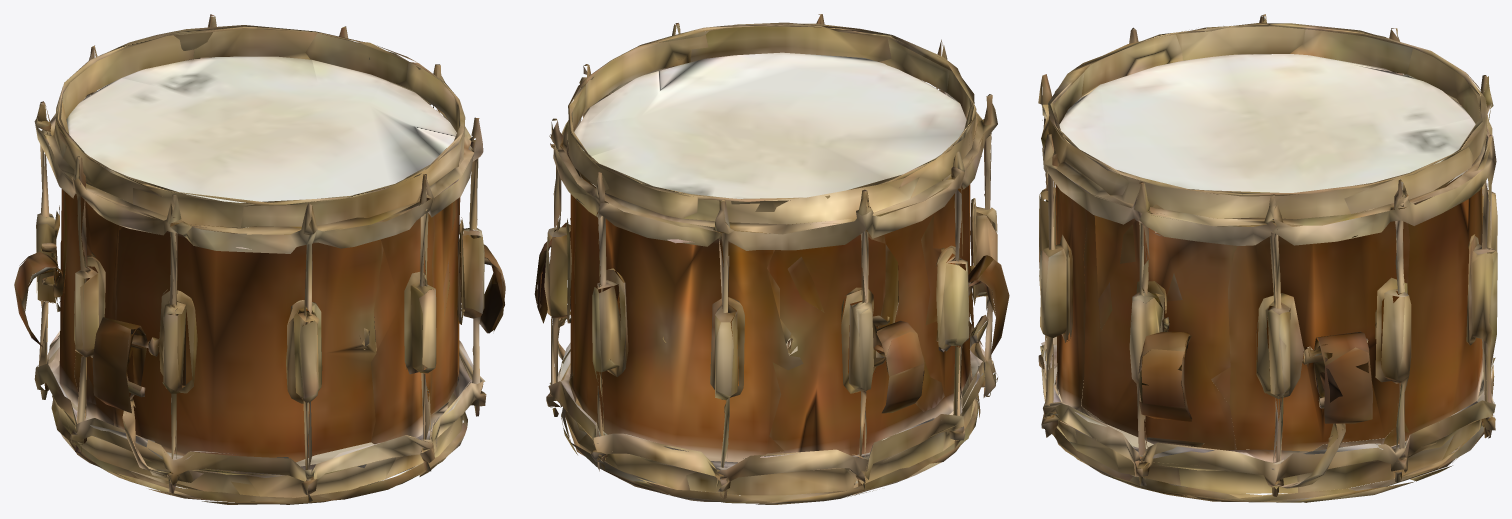
Rendered from redoblante.movil.glb.
3 views of the same model, side by side, from view 1: azimuth 30°, elevation 25°; view 2: azimuth 150°, elevation 25°; view 3: azimuth 270°, elevation 25° (orthographic).
Visible parts, largest first — view 1: geometry_0; view 2: geometry_0; view 3: geometry_0.
Part boxes in pixels (x1=…): geometry_0: x1=14, y1=14, x2=505, y2=504; geometry_0: x1=534, y1=14, x2=1009, y2=504; geometry_0: x1=1038, y1=14, x2=1497, y2=502.
Bounding box in the file's own units: 0.3991 × 0.3002 × 0.3983.
1 material, 1 textured.
